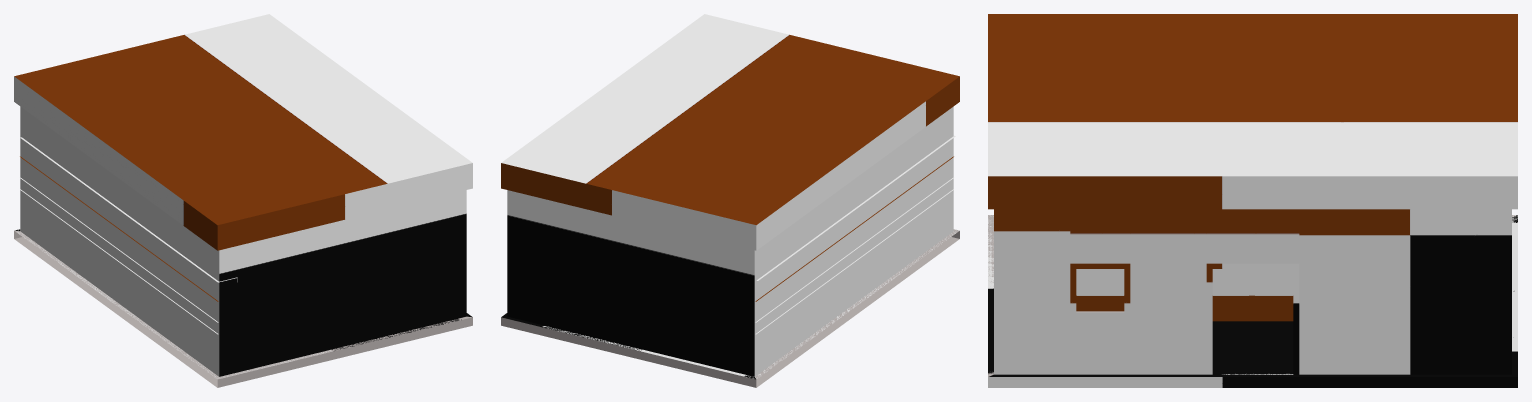
File: COLMADO_001.fbx
3 renders of one model, left to right at view 1: azimuth 30°, elevation 25°; view 2: azimuth 150°, elevation 25°; view 3: azimuth 270°, elevation 25°, orthographic. The views are drawn at different scales.
Visible parts, largest first — view 1: building_001; view 2: building_001; view 3: building_001.
Part boxes in pixels (box(x1,y1,x2,y2)): building_001: box(14, 14, 472, 387); building_001: box(501, 14, 959, 387); building_001: box(988, 14, 1517, 387).
Size of the model in its own units: 639 by 389 by 882.
